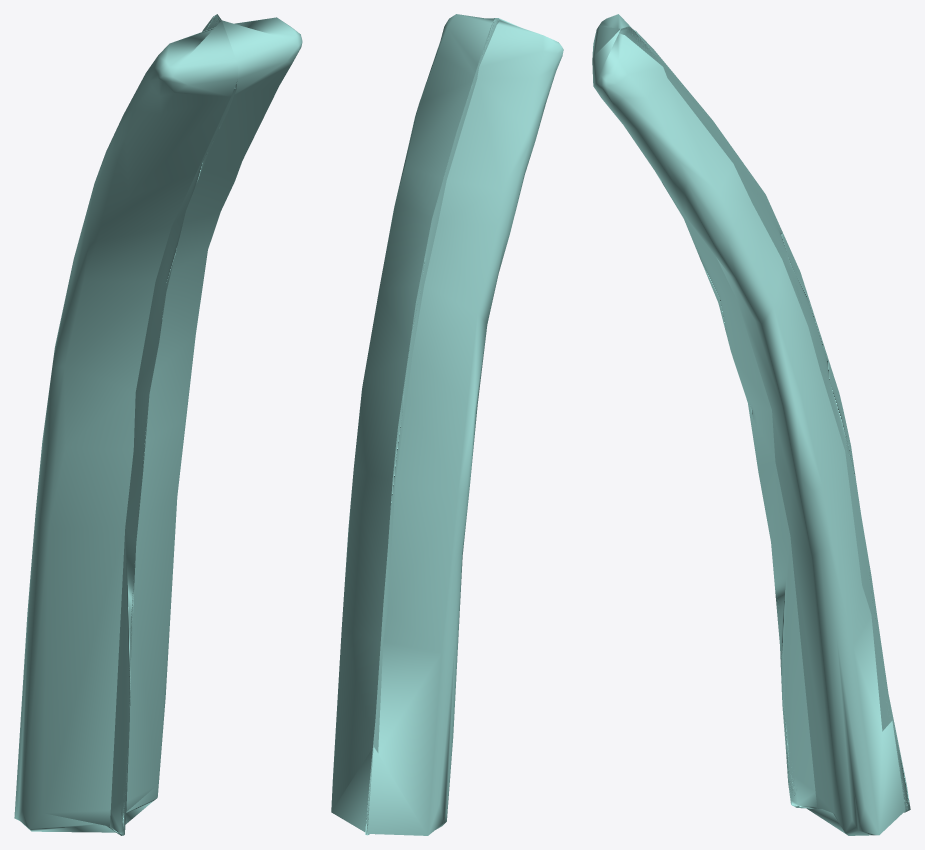
The model's file is Cerebral_aqueduct.glb.
3 renders of one model, left to right at view 1: azimuth 30°, elevation 25°; view 2: azimuth 150°, elevation 25°; view 3: azimuth 270°, elevation 25°, orthographic. The views are drawn at different scales.
Visible parts, largest first — view 1: Aqueduct_of_midbrain_(Cerebral_aqueduct)_grp1.116; view 2: Aqueduct_of_midbrain_(Cerebral_aqueduct)_grp1.116; view 3: Aqueduct_of_midbrain_(Cerebral_aqueduct)_grp1.116.
Part boxes in pixels (bbox=[...]): Aqueduct_of_midbrain_(Cerebral_aqueduct)_grp1.116: bbox=[14, 14, 302, 835]; Aqueduct_of_midbrain_(Cerebral_aqueduct)_grp1.116: bbox=[331, 14, 563, 835]; Aqueduct_of_midbrain_(Cerebral_aqueduct)_grp1.116: bbox=[592, 14, 910, 835].
Bounding box in the file's own units: 0.00287 × 0.0171 × 0.00627.
